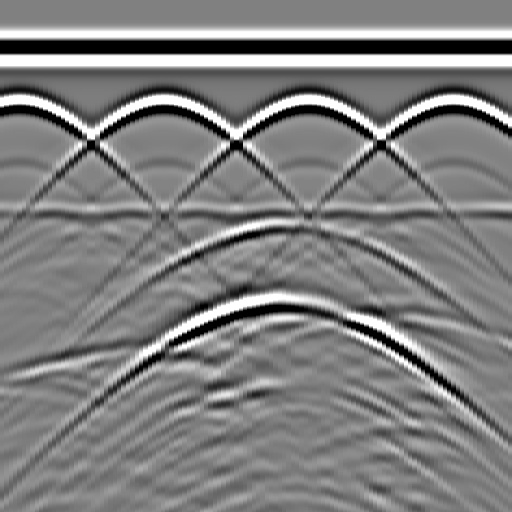grout_surface: (1, 197, 512, 227)
rebar: (142, 83, 182, 123), (286, 83, 326, 123), (430, 83, 470, 123)
rock_surface: (1, 314, 511, 391)
water_void: (253, 201, 313, 241)
